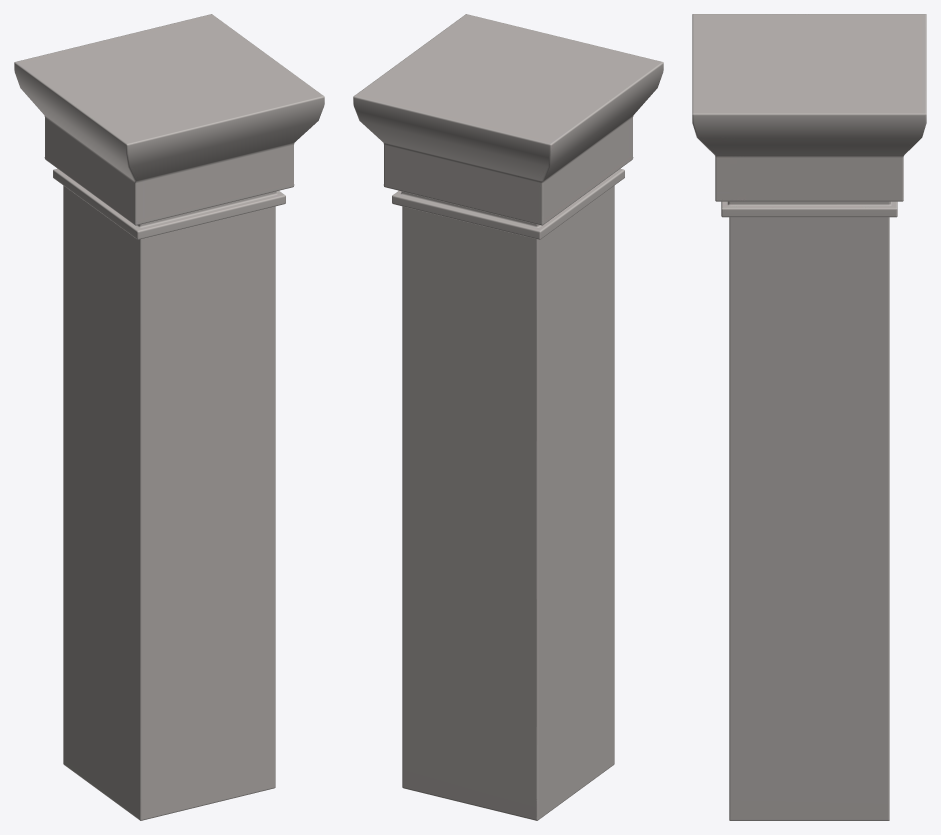
The model's file is BUILDING_Fence-Column_1.fbx.
The picture shows the model from 3 angles, left to right: view 1: azimuth 30°, elevation 25°; view 2: azimuth 150°, elevation 25°; view 3: azimuth 270°, elevation 25°; orthographic projection. The views are drawn at different scales.
Parts seen in each view (by area): view 1: BUILDING_Fence-Column_1_Baked; view 2: BUILDING_Fence-Column_1_Baked; view 3: BUILDING_Fence-Column_1_Baked.
Boxes of the visible parts, x1,y1,x2,y2 form: BUILDING_Fence-Column_1_Baked: (14,14,324,820); BUILDING_Fence-Column_1_Baked: (353,14,663,820); BUILDING_Fence-Column_1_Baked: (692,14,926,820).
Size of the model in its own units: 20.63 by 69.35 by 20.39.
Materials: 1 (1 with a texture image).
